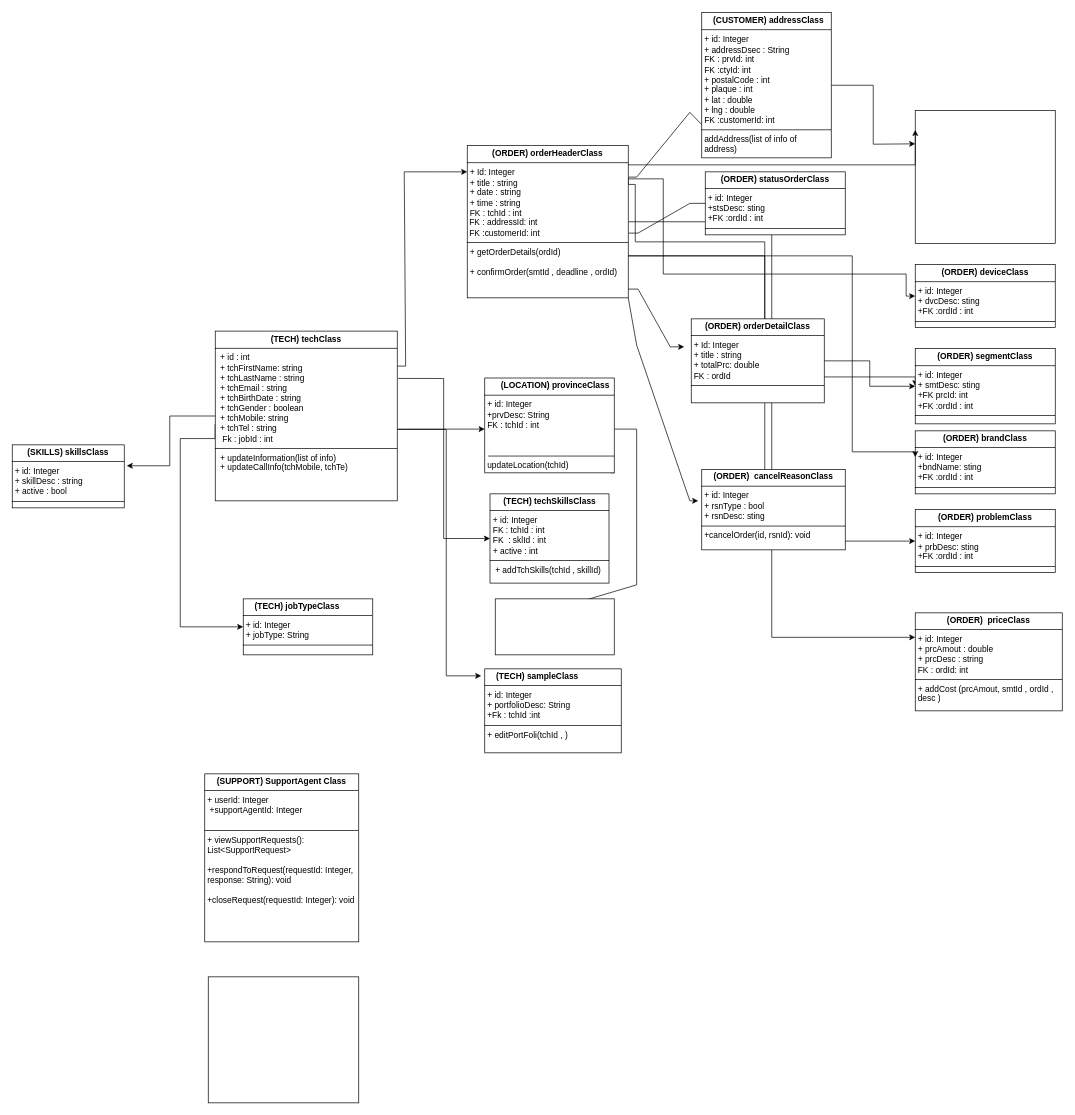
Some shapes in this 1075 by 1115 pixel diagram are drawn without their labels. The shapes that lost their labels are listed below. From the top down, each one's centre as x and y in pixels, then its label:
At (985,177): "customerClass".
At (554,626): "(LOCATION) cityClass + id: Integer + ctyDesc: String FK : prvId : int".
At (283,1039): "(PAYMENT) payment Class +Id: Integer +price : double +ordId: Integer".
